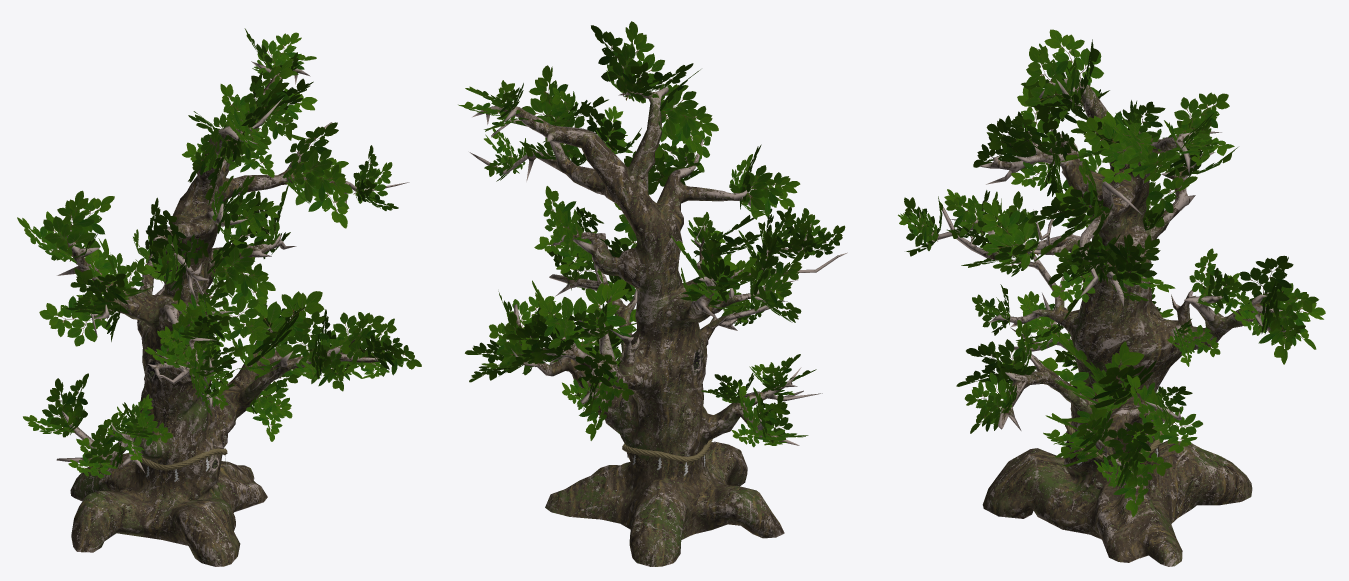
File: Goshinboku.fbx
3 renders of one model, left to right at view 1: azimuth 30°, elevation 25°; view 2: azimuth 150°, elevation 25°; view 3: azimuth 270°, elevation 25°, orthographic. The views are drawn at different scales.
Visible parts, largest first — view 1: TreeObj, Tree; view 2: Tree, TreeObj; view 3: TreeObj, Tree.
Boxes of the visible parts, bbox=[...] form: TreeObj: bbox=[17, 28, 421, 481]; Tree: bbox=[56, 61, 409, 566]; Tree: bbox=[469, 59, 847, 566]; TreeObj: bbox=[458, 21, 845, 475]; TreeObj: bbox=[898, 29, 1325, 517]; Tree: bbox=[919, 78, 1290, 566].
Bounding box in the file's own units: 457 × 559 × 433.
2 materials, 2 textured.
